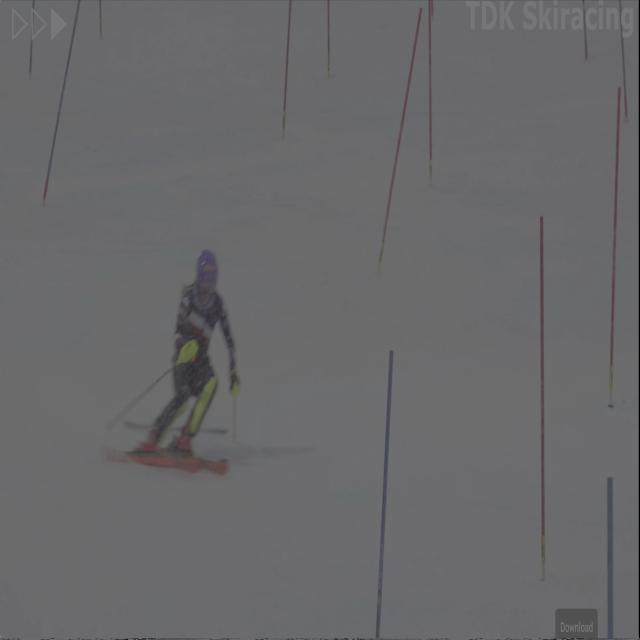gate: (523, 202, 556, 586), (360, 339, 402, 637), (388, 0, 424, 281), (45, 0, 76, 224), (596, 473, 632, 640), (608, 83, 623, 423), (610, 4, 636, 127), (425, 0, 438, 184), (282, 0, 294, 147), (26, 0, 43, 89), (320, 0, 337, 83)
